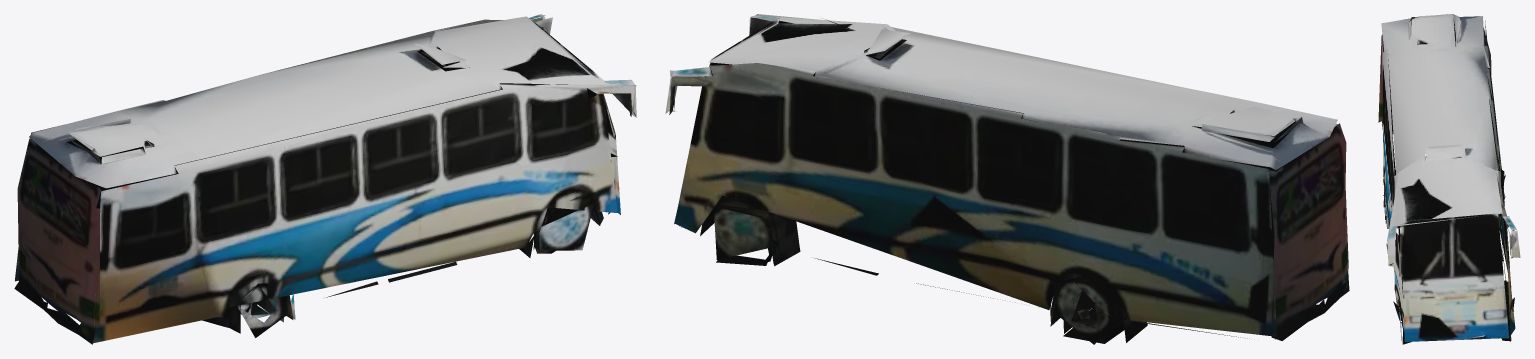
The model's file is encava.glb.
The picture shows the model from 3 angles, left to right: view 1: azimuth 30°, elevation 25°; view 2: azimuth 150°, elevation 25°; view 3: azimuth 270°, elevation 25°; orthographic projection. The views are drawn at different scales.
Visible parts, largest first — view 1: Plane__0.019; view 2: Plane__0.019; view 3: Plane__0.019.
Boxes of the visible parts, <box> form: Plane__0.019: <box>14,14,636,344</box>; Plane__0.019: <box>665,14,1349,344</box>; Plane__0.019: <box>1378,14,1520,344</box>.
Size of the model in its own units: 18.57 by 6.69 by 5.47.
1 material, 1 textured.
